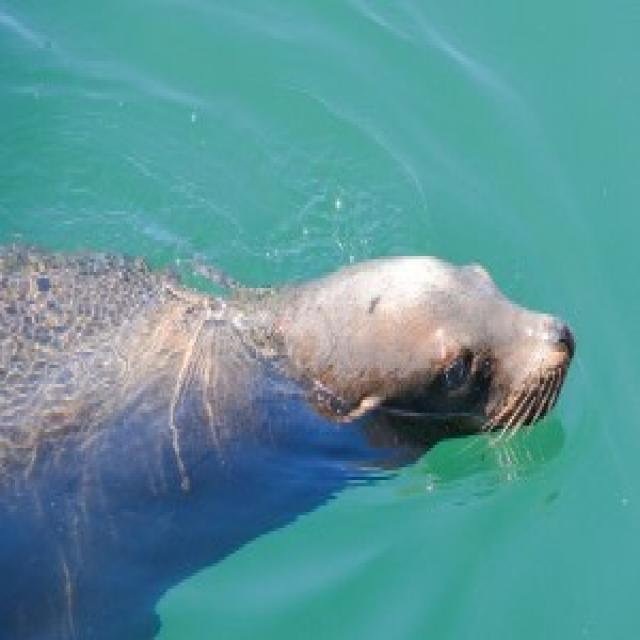Seal: (0, 240, 593, 640)
